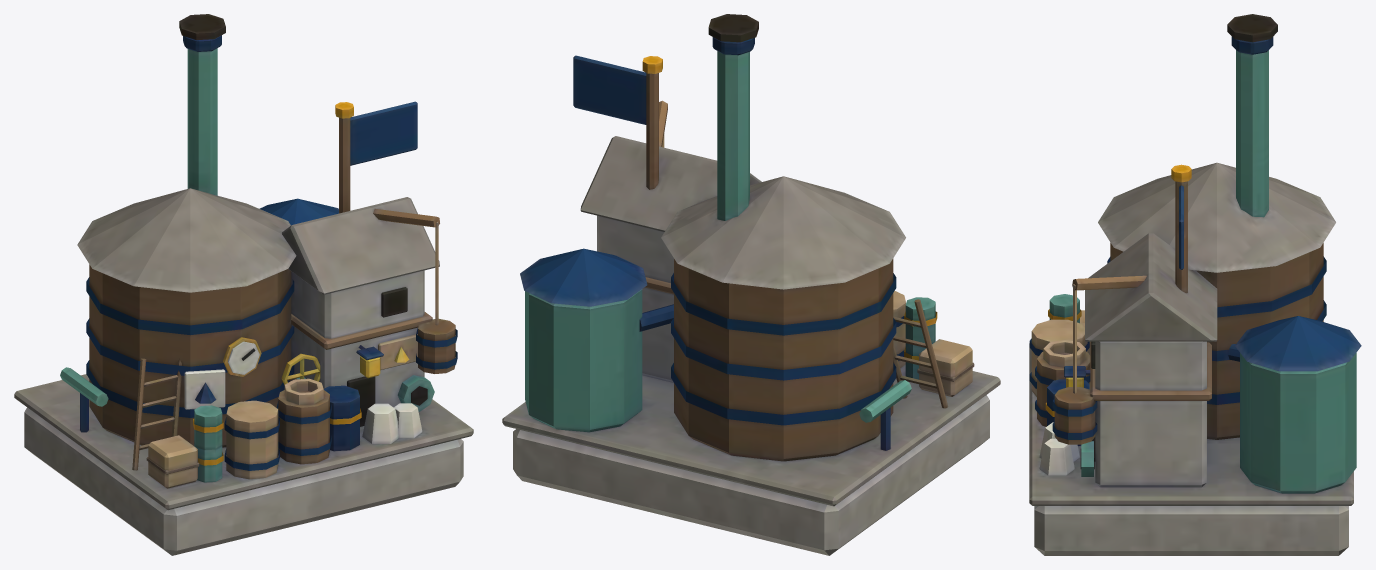
File: refinery-15.glb
The picture shows the model from 3 angles, left to right: view 1: azimuth 30°, elevation 25°; view 2: azimuth 150°, elevation 25°; view 3: azimuth 270°, elevation 25°; orthographic projection. The views are drawn at different scales.
Visible parts, largest first — view 1: refinery-15; view 2: refinery-15; view 3: refinery-15.
Boxes of the visible parts, bbox=[...] form: refinery-15: bbox=[14, 14, 473, 555]; refinery-15: bbox=[502, 14, 1000, 555]; refinery-15: bbox=[1029, 14, 1361, 555].
Bounding box in the file's own units: 1.55 × 1.97 × 1.31.
Materials: 1 (1 with a texture image).
